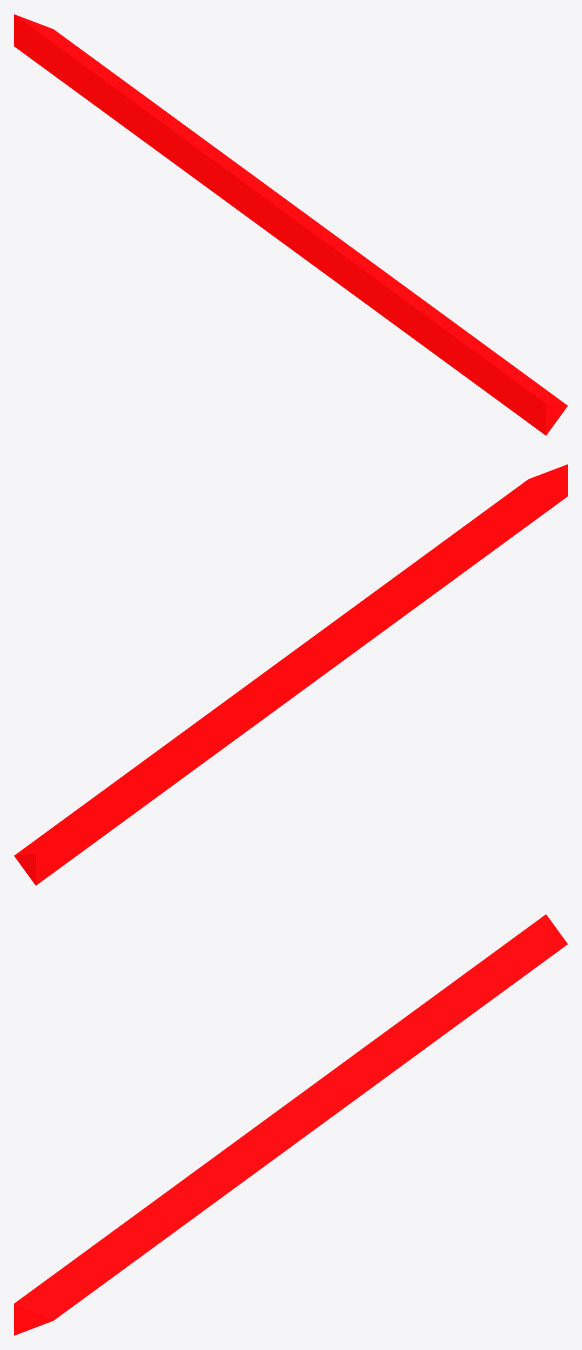
The model's file is LevelBottom.fbx.
3 renders of one model, top to bottom at view 1: azimuth 30°, elevation 25°; view 2: azimuth 150°, elevation 25°; view 3: azimuth 330°, elevation 25°, orthographic.
Parts seen in each view (by area): view 1: BottomEdge; view 2: BottomEdge; view 3: BottomEdge.
Part boxes in pixels (<box>): BottomEdge: <box>14,14,567,435</box>; BottomEdge: <box>14,464,567,885</box>; BottomEdge: <box>14,914,567,1335</box>.
Size of what is drawn, in the model's own units: 200 by 200 by 6000.
